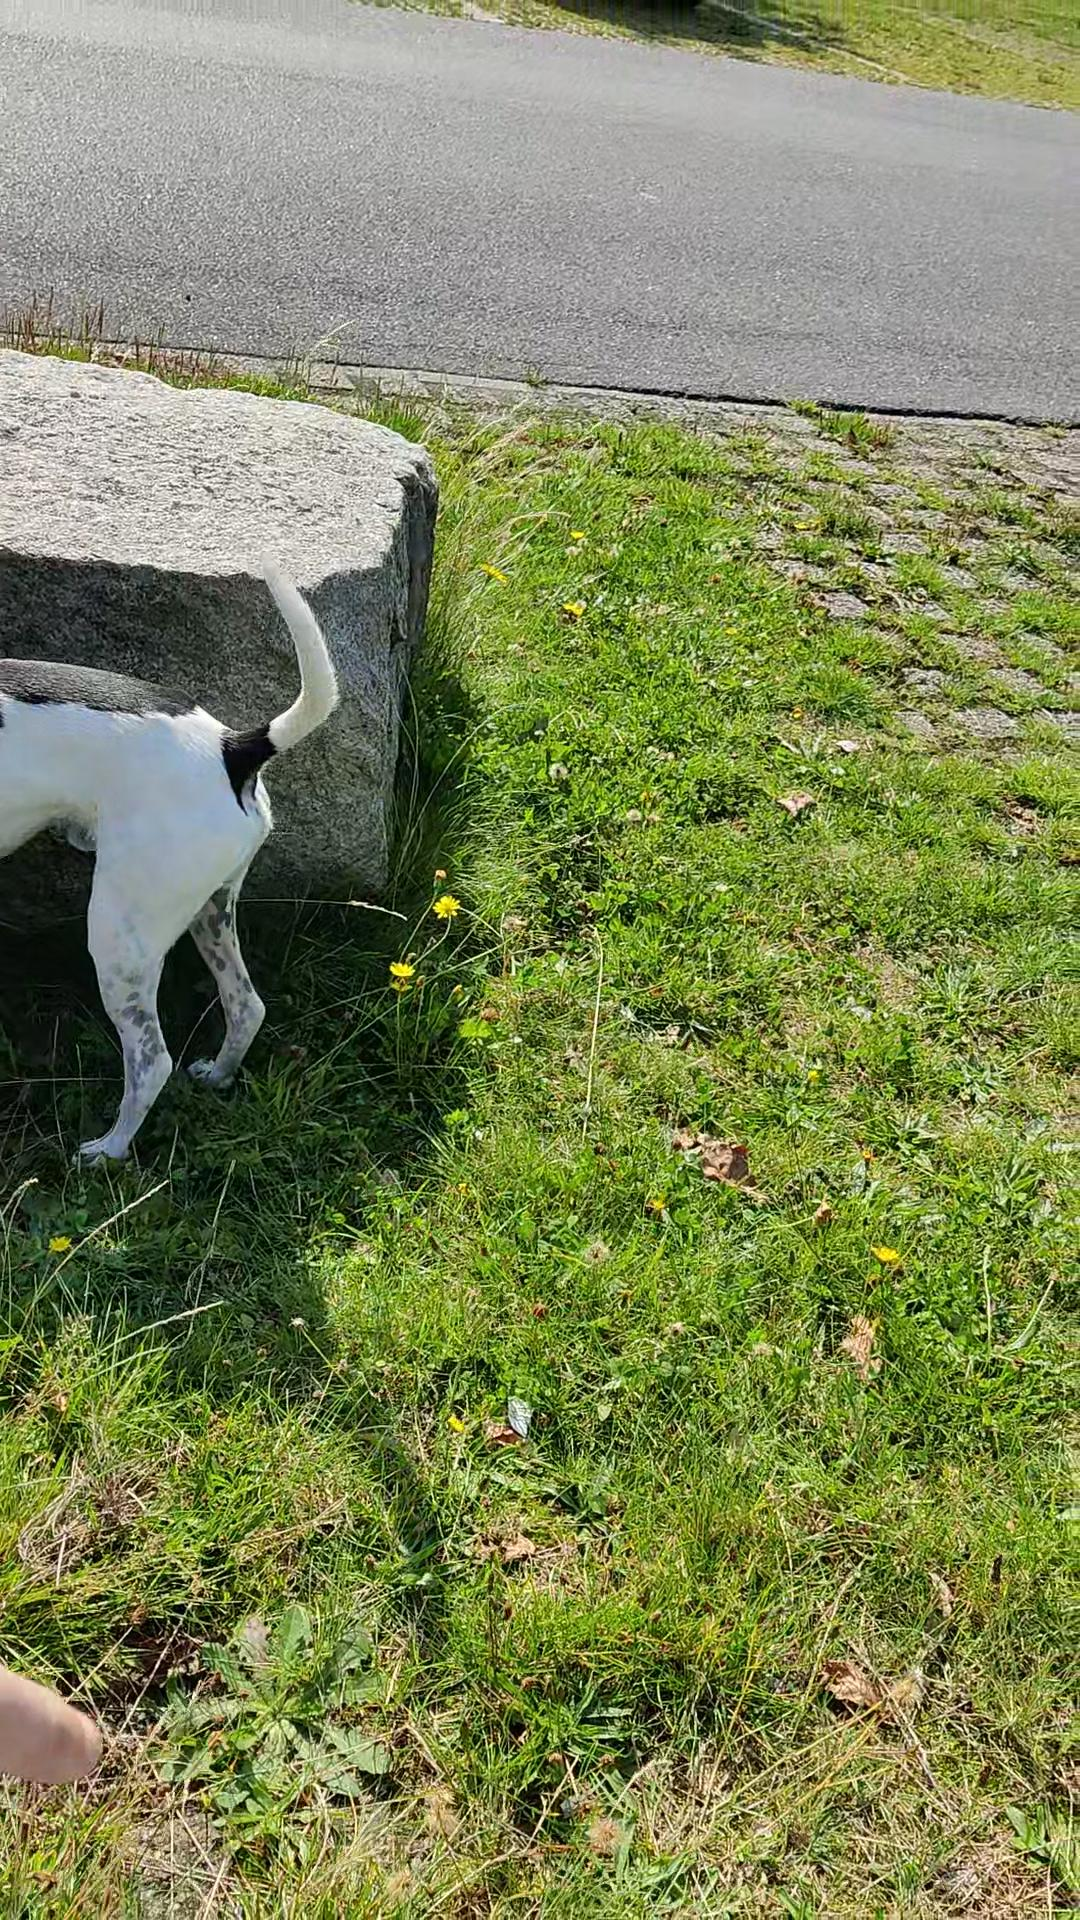Dog: (0, 551, 348, 1189)
